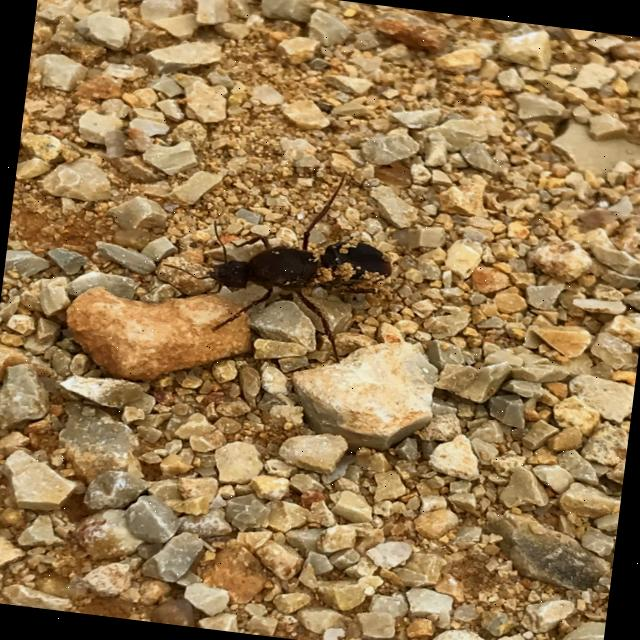Alive-Female-Dealate: (152, 150, 416, 369)
